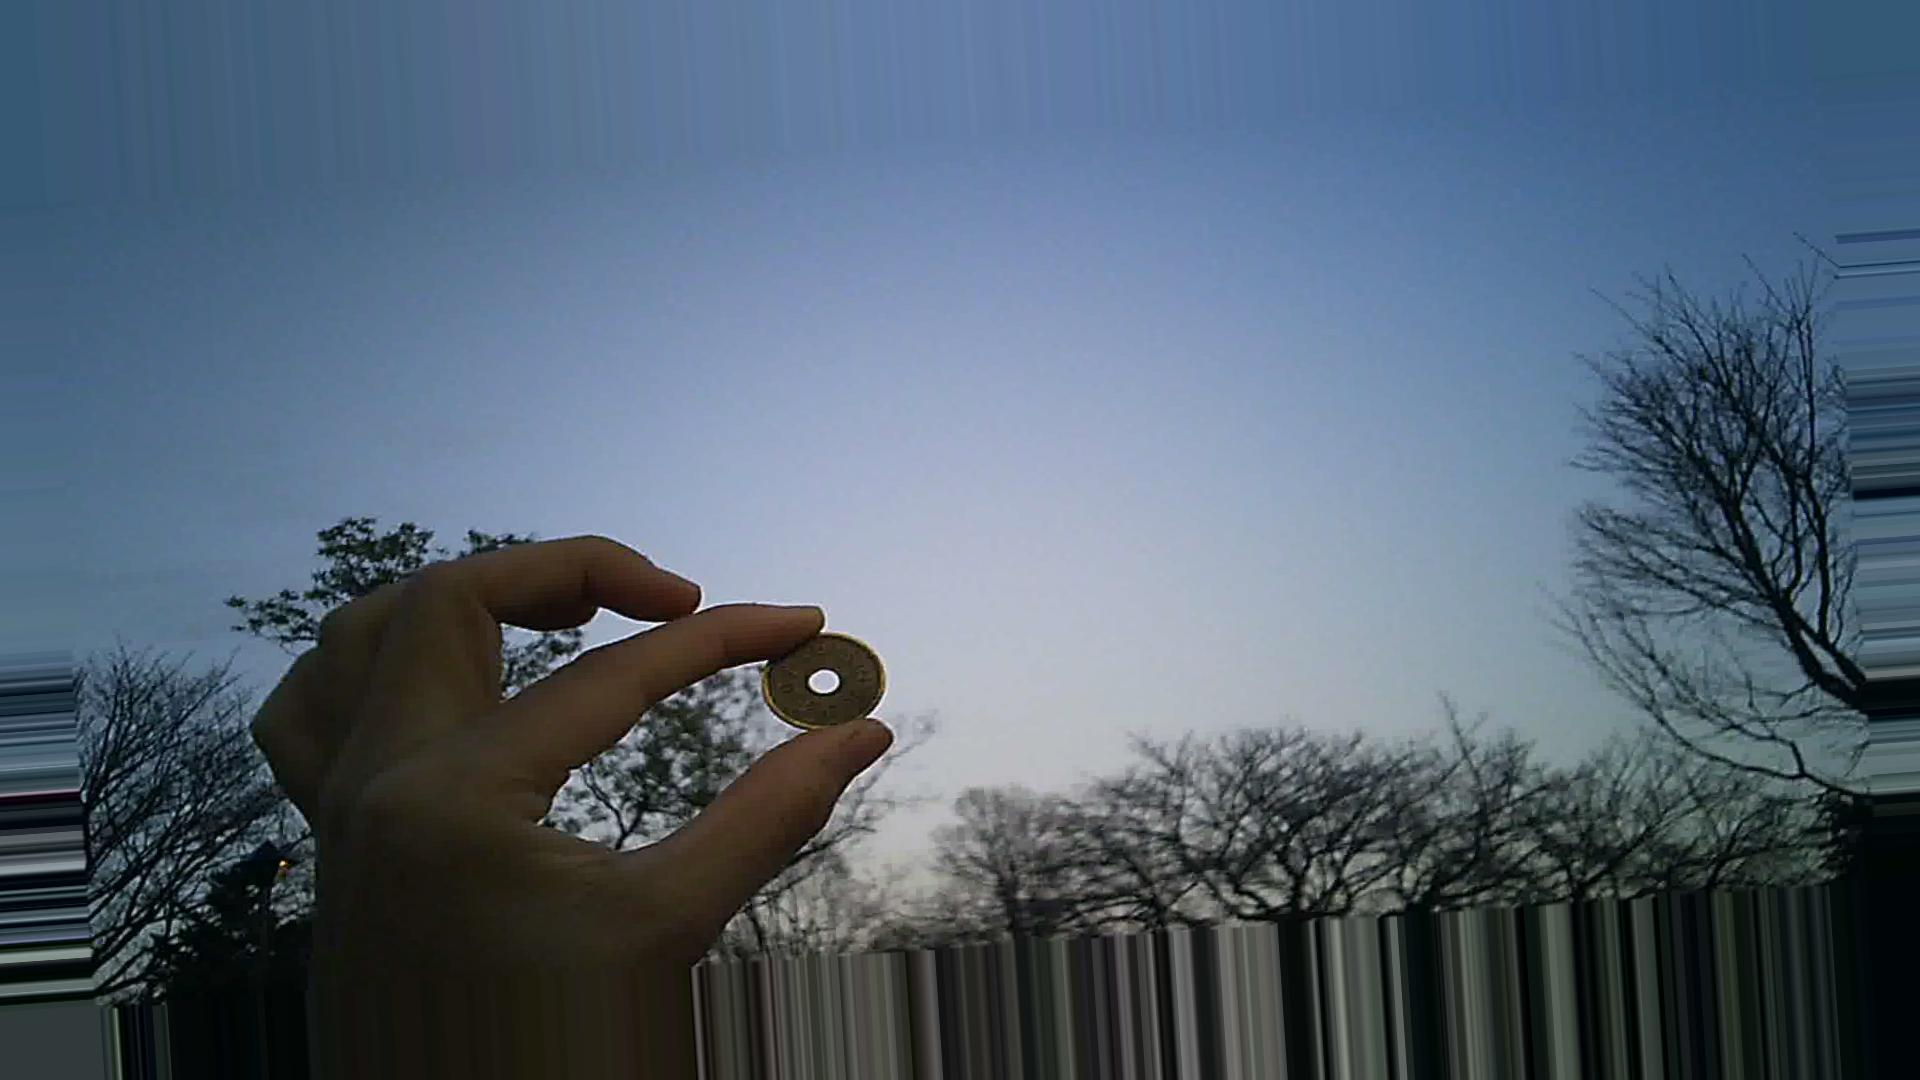5 Yen: (745, 620, 916, 767)
